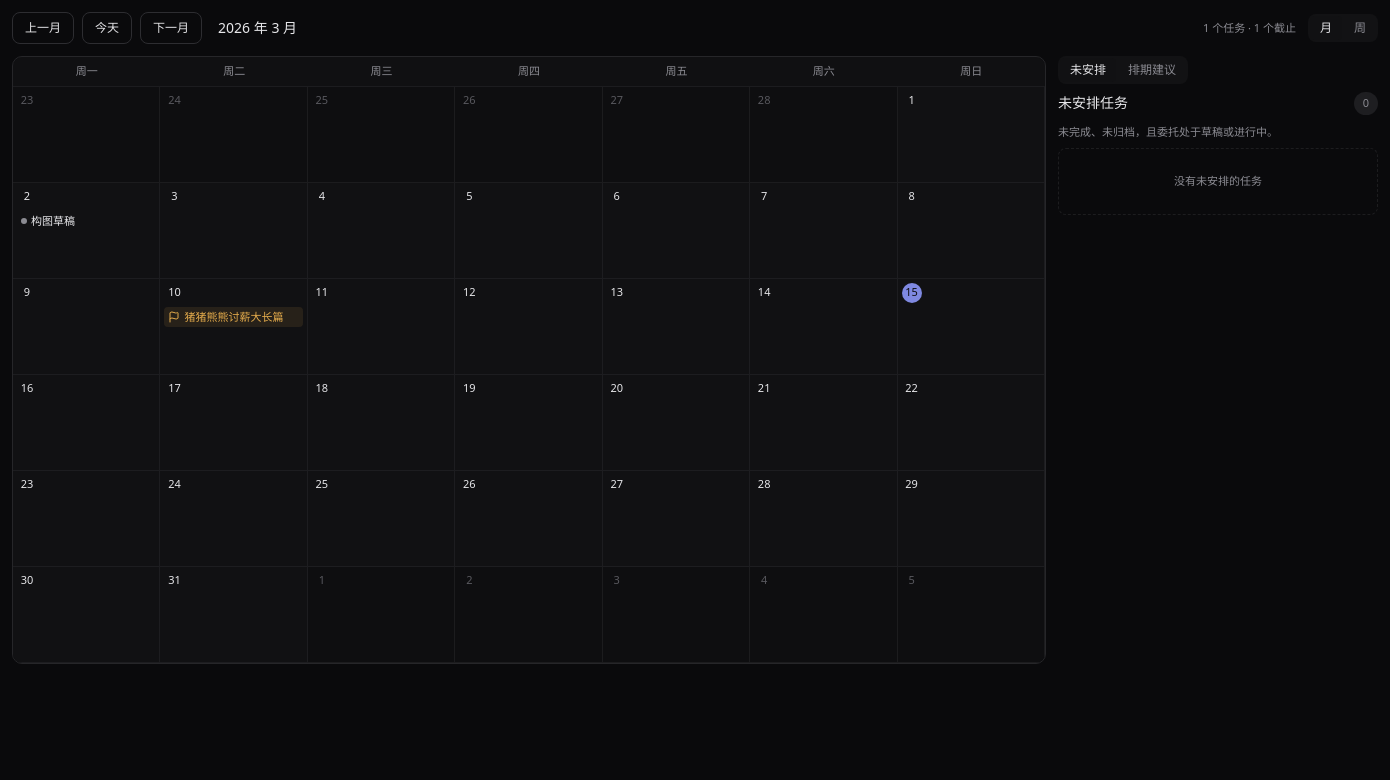
Test: 日历页：当天详情面板 › 没有创作记录的日期不显示虚假工时数字
Check: the 11th element with test id "calendar-day" is shown, box [455,182,603,278]
Click the 11th button with test id "calendar-day-select" at (469,196), box [459,186,479,206]
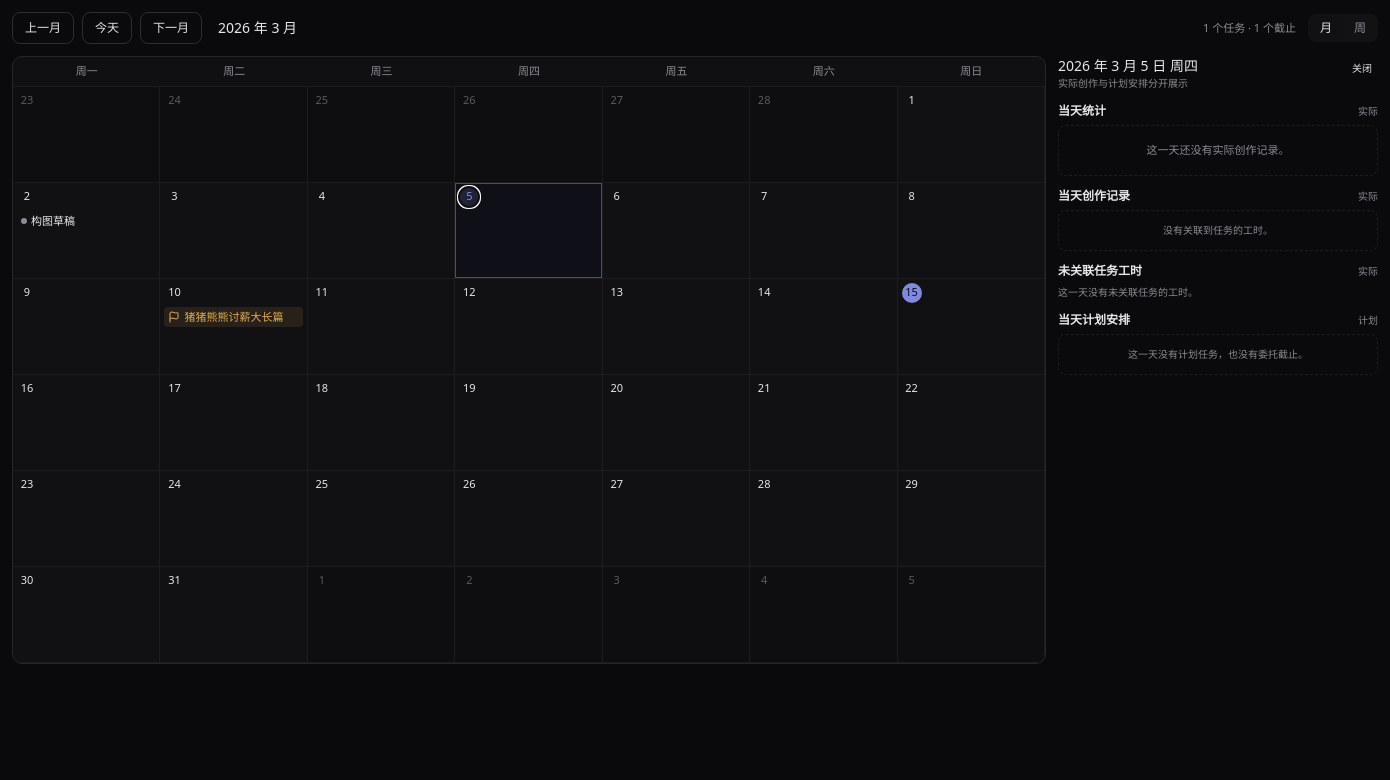
Check: the element with test id "calendar-day-detail" is shown, box [1058,56,1378,374]
Check: the text with test id "day-detail-empty" shows "这一天还没有实际创作记录", box [1146,142,1290,157]
